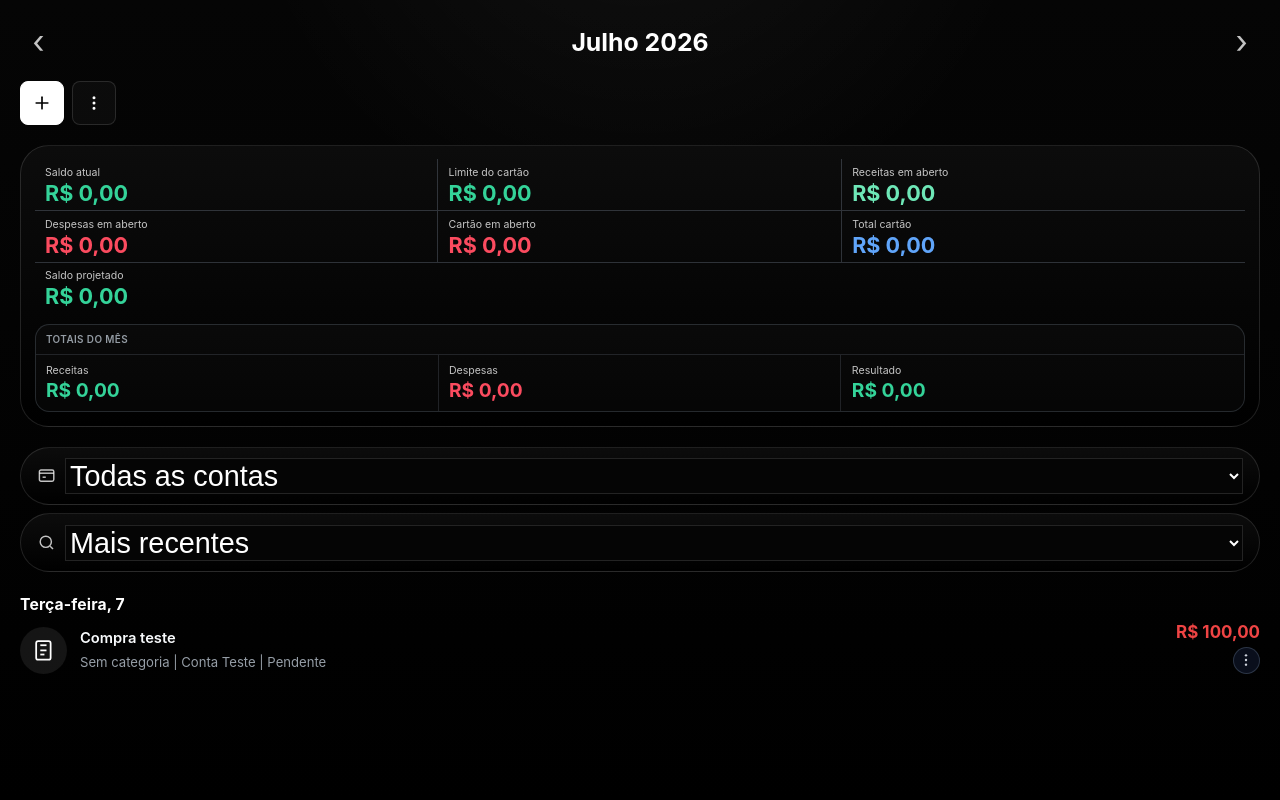
Test: Transactions Page › renders the ClearTransactionModal outside the page container when opened
What coordinates should you click on to do the following:
click the heading named "Ações da transação"
I would click on:
 (1246, 660)
Its box is [1233,647,1260,674].
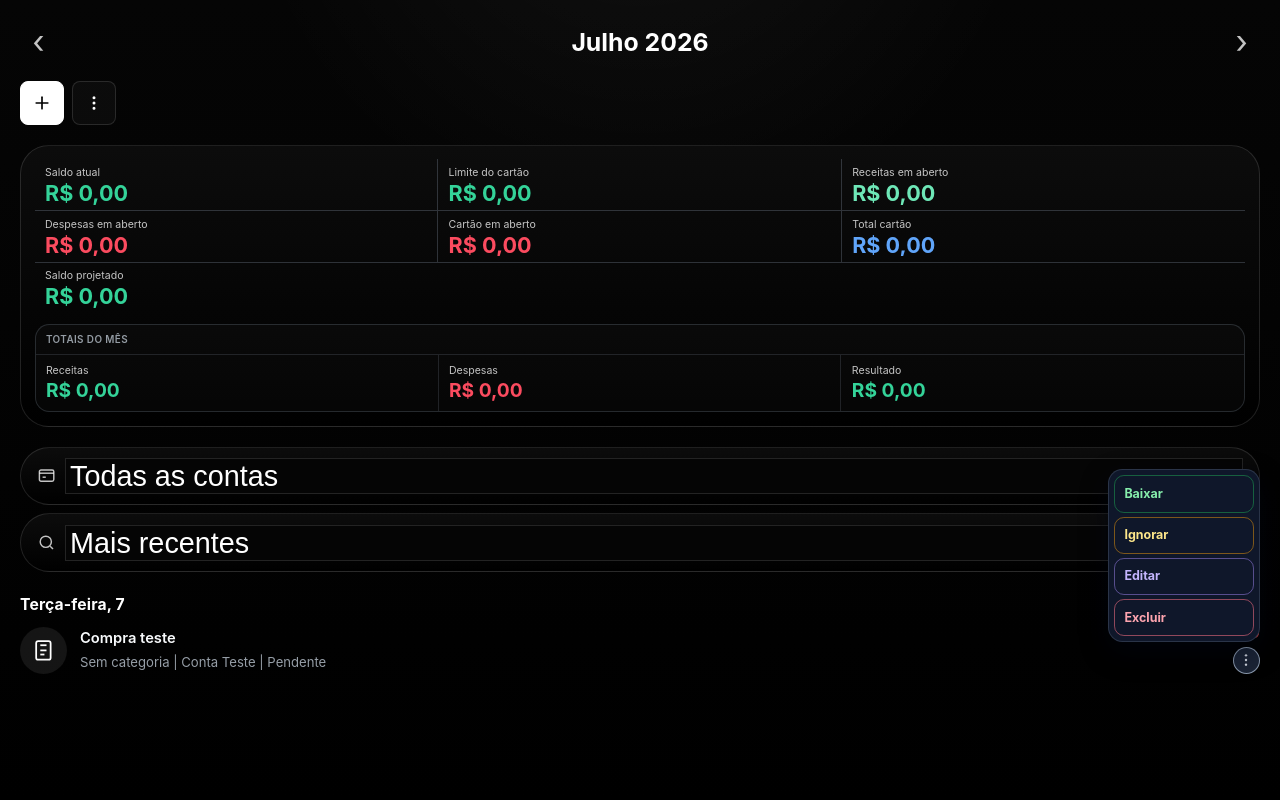
What coordinates should you click on to do the following:
click the button "Baixar"
I would click on:
 (1184, 494)
Its box is [1114,476,1254,513].
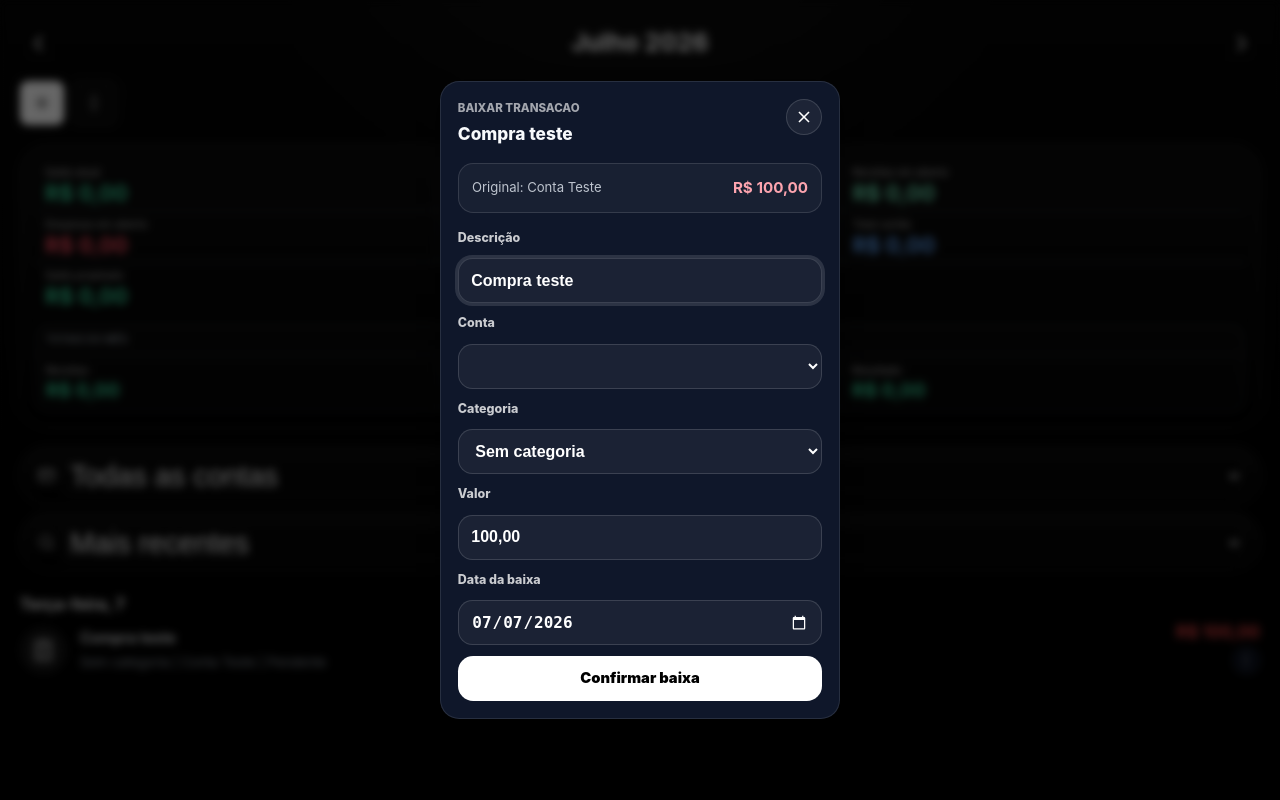
Now the text "Compra teste" is shown, box [458,124,573,144]
